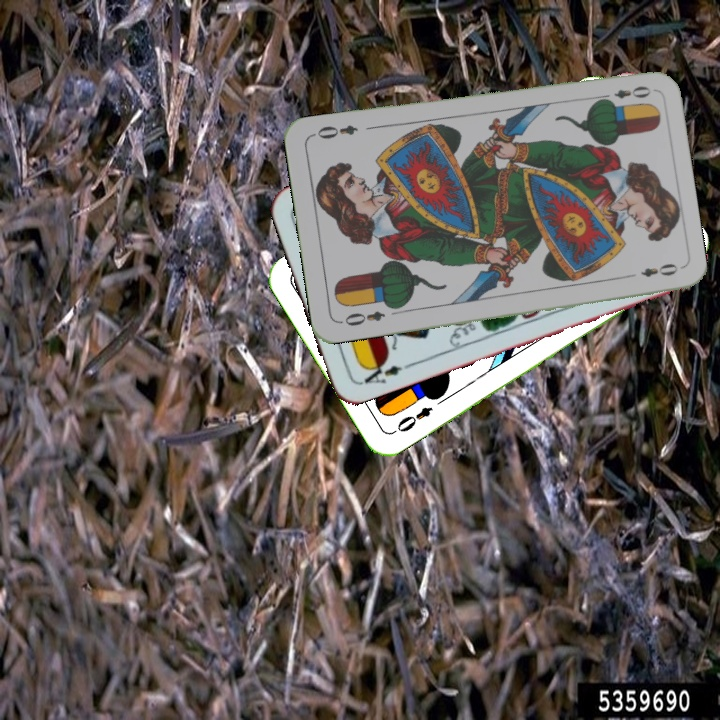EA: (356, 356, 405, 387)
EO: (388, 402, 436, 436), (596, 82, 654, 106), (336, 307, 388, 329)
